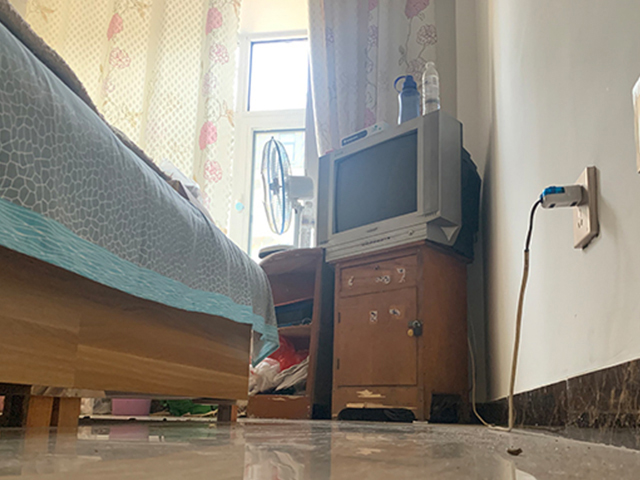bed: (1, 2, 279, 429)
cabinet: (248, 236, 472, 424)
wire: (466, 183, 585, 432)
